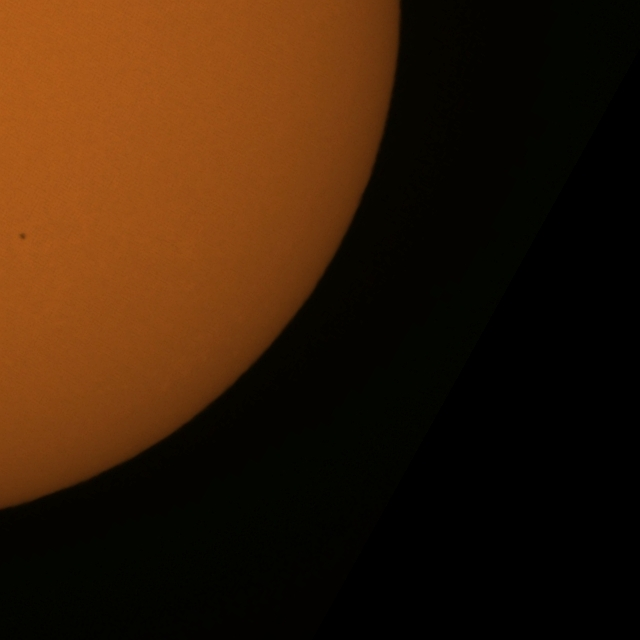sunspot: (18, 232, 27, 241)
